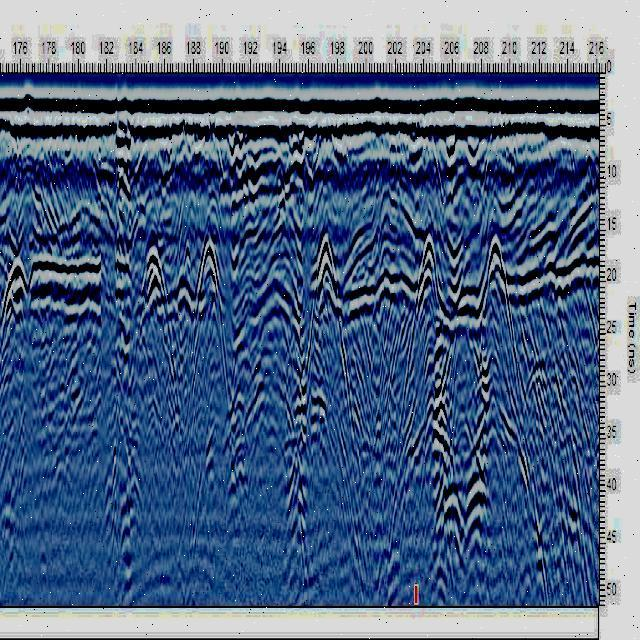hyperbola: (190, 228, 230, 326), (137, 246, 175, 344), (310, 220, 342, 334), (477, 226, 513, 325), (412, 214, 446, 318), (4, 232, 30, 332)
